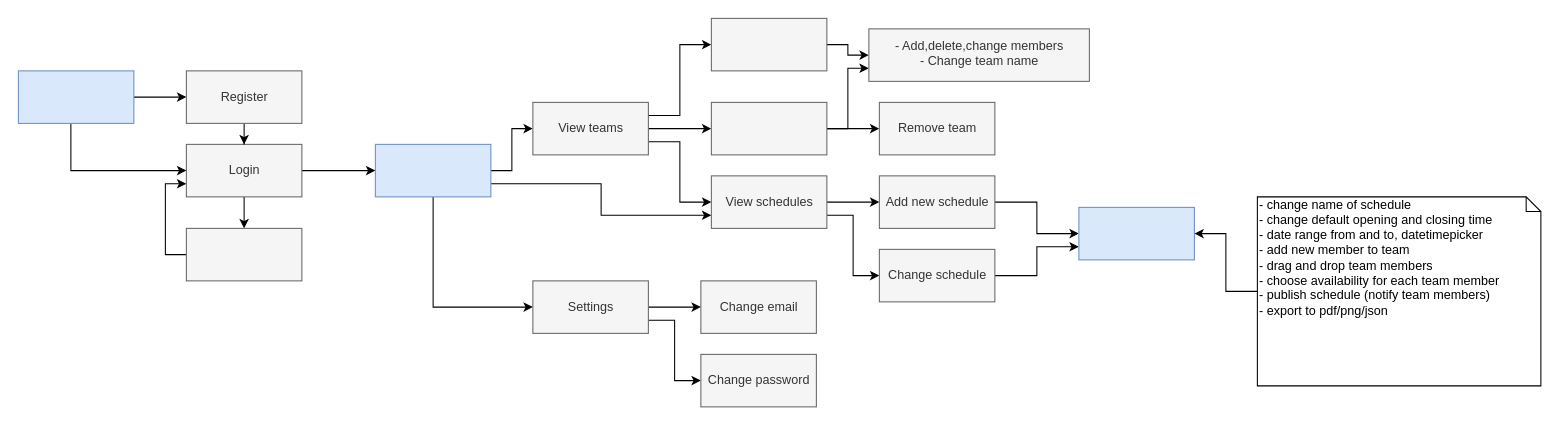
The diagram is 1559 pixels wide and 425 high, and some of its shapes have lost their labels. Here are the shapes that lost their labels. From the top down, the centre of each, then its label:
[768,44]: Create new team
[75,96]: Home
[768,128]: Modify team
[432,170]: Dashboard
[1136,233]: Scheduler
[243,254]: Forgotten password?
